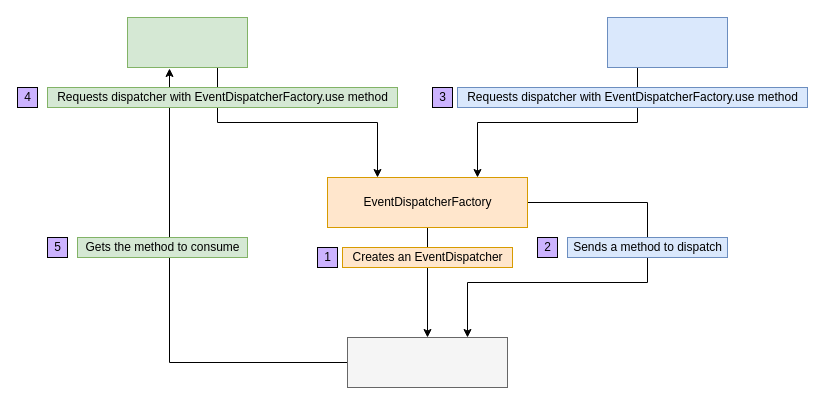
The diagram is 825 pixels wide and 405 high, and some of its shapes have lost their labels. Here are the shapes that lost their labels. From the top down, the centre of each, then its label:
[187,42]: ParentComponent
[667,42]: ChildComponent
[427,362]: EventDispatcher
